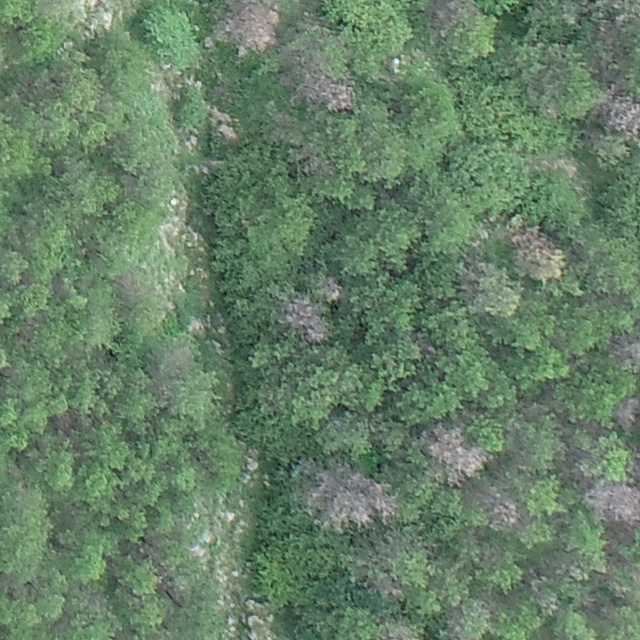unhealthy: (306, 465, 369, 531), (422, 420, 486, 484), (507, 222, 564, 281), (222, 3, 282, 53), (584, 478, 639, 529), (282, 294, 329, 342), (300, 72, 355, 112), (601, 89, 639, 138), (361, 476, 398, 524), (481, 491, 522, 528), (609, 332, 639, 372), (612, 395, 639, 432), (378, 620, 421, 640), (374, 575, 404, 599), (317, 276, 343, 303)
